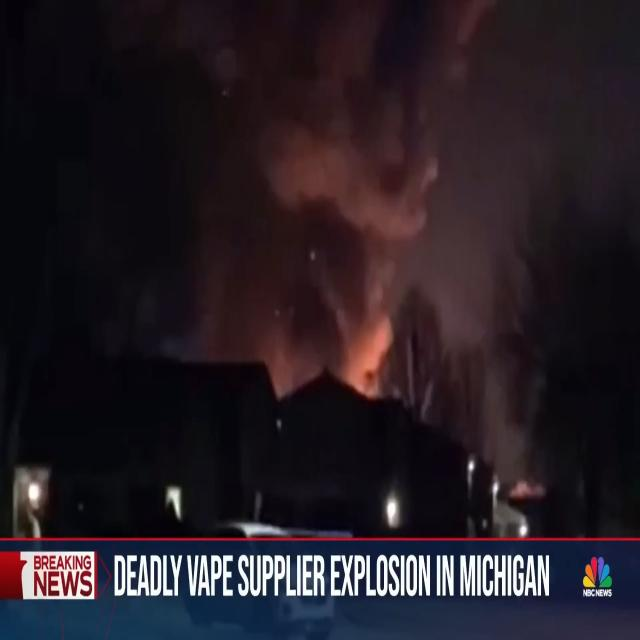fire: (248, 229, 424, 416)
